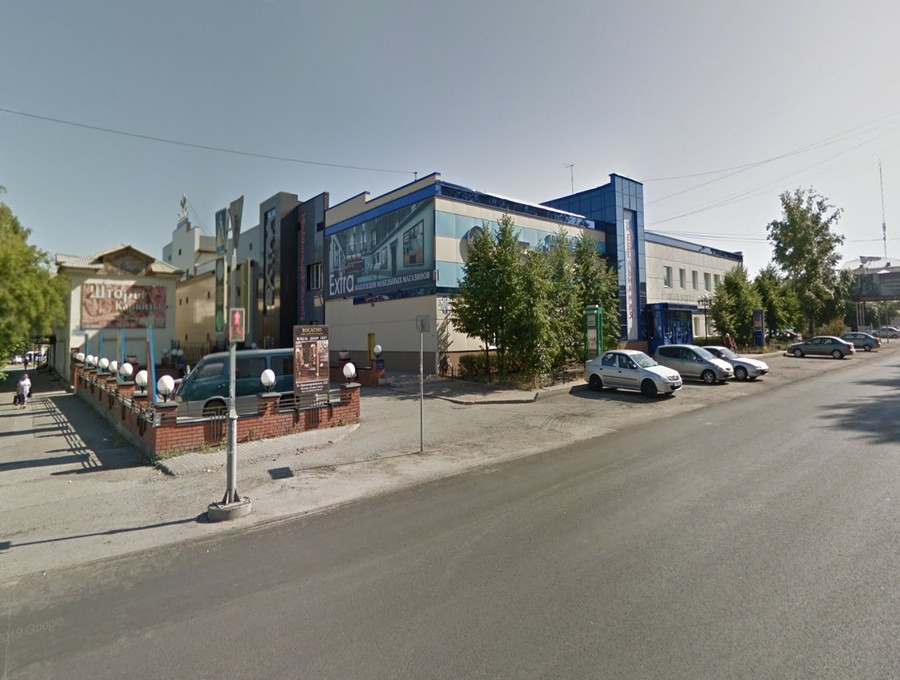Traffic Light-red: (228, 308, 251, 343)
